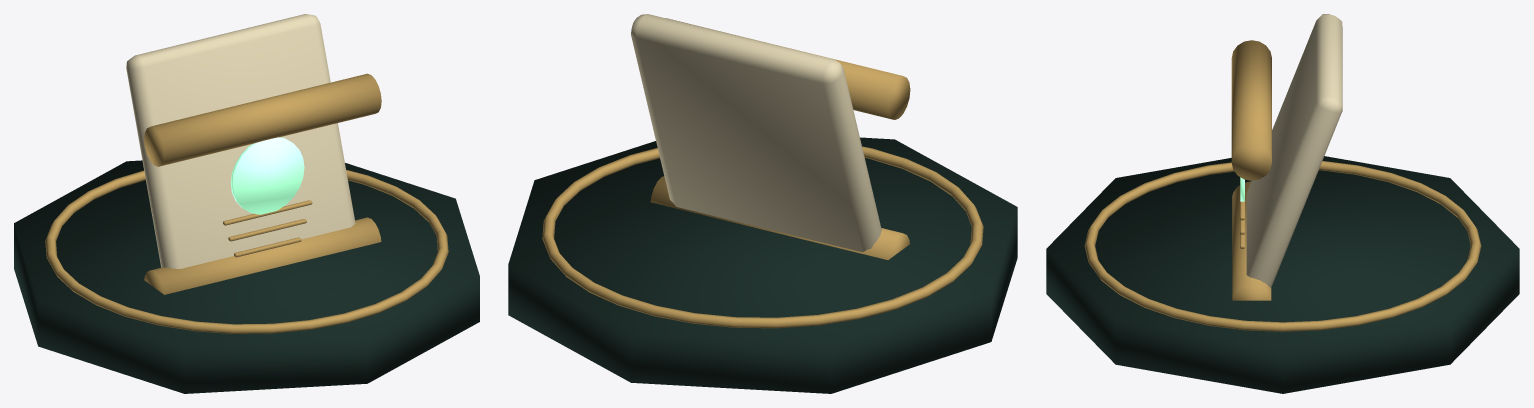
3 views of the same model, side by side, from view 1: azimuth 30°, elevation 25°; view 2: azimuth 150°, elevation 25°; view 3: azimuth 270°, elevation 25° (orthographic). The views are drawn at different scales.
Visible parts, largest first — view 1: Hexagonal plinth, Parchment, Rolled parchment edge.001, Inlaid rim, Rolled parchment edge, 3B embossed seal, Embossed line.001, Embossed line; view 2: Hexagonal plinth, Parchment, Inlaid rim, Rolled parchment edge.001, Rolled parchment edge; view 3: Hexagonal plinth, Parchment, Inlaid rim, Rolled parchment edge.001, Rolled parchment edge.
Boxes of the visible parts, bbox=[...] form: Hexagonal plinth: bbox=[14, 160, 479, 393]; Parchment: bbox=[126, 14, 355, 268]; Rolled parchment edge.001: bbox=[144, 73, 381, 166]; Inlaid rim: bbox=[45, 170, 448, 333]; Rolled parchment edge: bbox=[144, 217, 381, 294]; 3B embossed seal: bbox=[230, 137, 304, 214]; Embossed line.001: bbox=[228, 219, 306, 241]; Embossed line: bbox=[223, 200, 312, 225]; Hexagonal plinth: bbox=[508, 137, 1017, 393]; Parchment: bbox=[631, 14, 881, 252]; Inlaid rim: bbox=[542, 146, 983, 328]; Rolled parchment edge.001: bbox=[666, 18, 910, 119]; Rolled parchment edge: bbox=[650, 176, 909, 259]; Hexagonal plinth: bbox=[1046, 156, 1519, 393]; Parchment: bbox=[1246, 14, 1342, 287]; Inlaid rim: bbox=[1084, 161, 1481, 331]; Rolled parchment edge.001: bbox=[1231, 40, 1271, 180]; Rolled parchment edge: bbox=[1232, 181, 1271, 300].
Bounding box in the file's own units: 1.52 × 0.8899 × 1.52.
